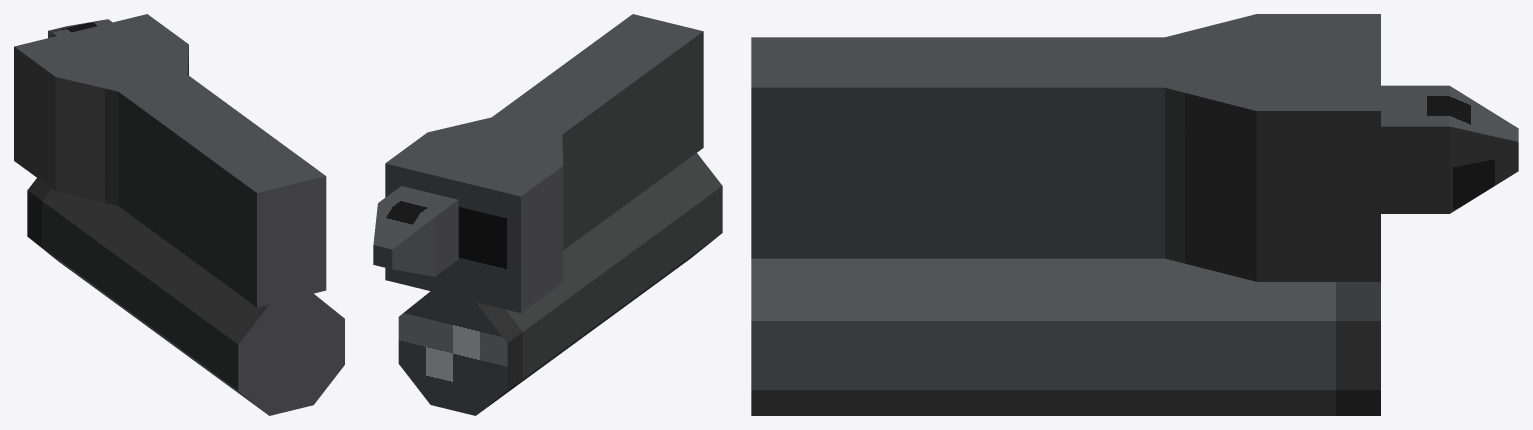
Rendered from coupler.obj.
3 renders of one model, left to right at view 1: azimuth 30°, elevation 25°; view 2: azimuth 150°, elevation 25°; view 3: azimuth 270°, elevation 25°, orthographic. The views are drawn at different scales.
Visible parts, largest first — view 1: 半自动车钩, cylinder, 车钩钩体; view 2: 半自动车钩, cylinder, 车钩钩体; view 3: 半自动车钩, cylinder, 车钩钩体.
Part boxes in pixels (x1=…): 半自动车钩: x1=14, y1=14, x2=326, y2=307; cylinder: x1=27, y1=178, x2=344, y2=415; 车钩钩体: x1=48, y1=19, x2=112, y2=37; 半自动车钩: x1=385, y1=14, x2=703, y2=312; cylinder: x1=398, y1=153, x2=722, y2=415; 车钩钩体: x1=373, y1=186, x2=458, y2=276; 半自动车钩: x1=751, y1=14, x2=1380, y2=281; cylinder: x1=751, y1=258, x2=1380, y2=415; 车钩钩体: x1=1381, y1=85, x2=1518, y2=213.
Bounding box in the file's own units: 0.3125 × 0.5063 × 1.04.
